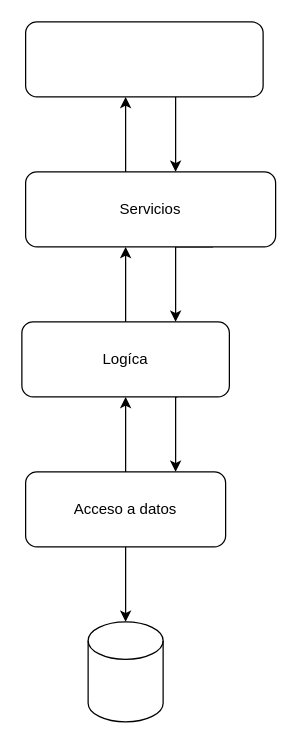
The diagram is 298 pixels wide and 744 high, and some of its shapes have lost their labels. Here are the shapes that lost their labels. From the top down, the centre of each, then its label:
At point 143,59: "Front".
At point 125,671: "SQL Server".
